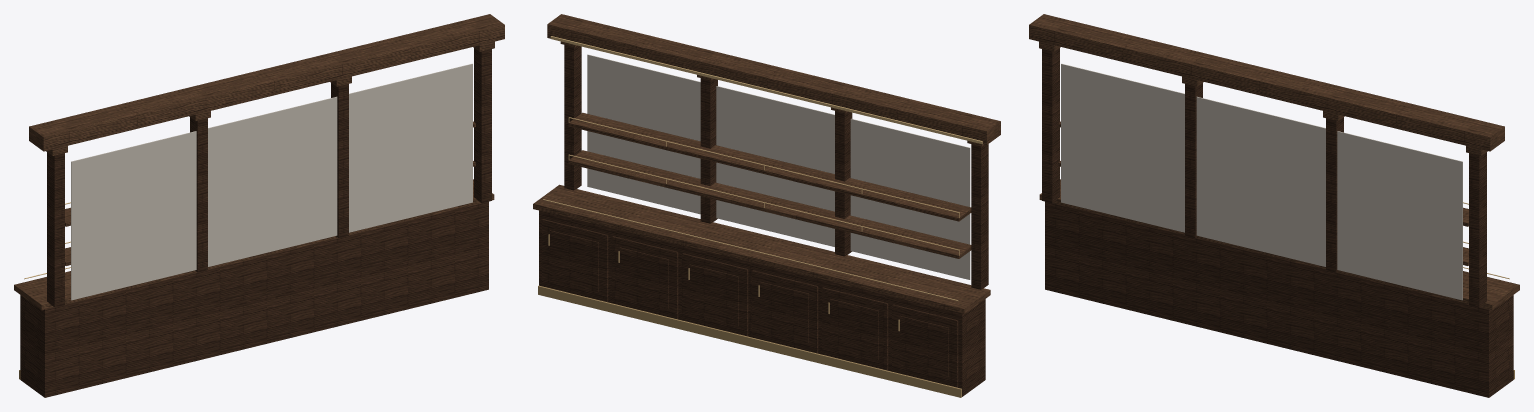
The model's file is estante.glb.
3 views of the same model, side by side, from view 1: azimuth 30°, elevation 25°; view 2: azimuth 150°, elevation 25°; view 3: azimuth 330°, elevation 25° (orthographic). The views are drawn at different scales.
Parts seen in each view (by area): view 1: armario, espelho.001, espelho, espelho.002, cornija, coluna, coluna.003, armario_tampo, coluna.001, coluna.002; view 2: armario_tampo, espelho, espelho.001, espelho.002, cornija, armario, prateleira, prateleira.001, armario_rodape, coluna, porta_almofada, porta_almofada.001 (+17 smaller); view 3: armario, espelho.001, espelho.002, espelho, cornija, coluna.003, coluna, armario_tampo, coluna.002, coluna.001.
Part boxes in pixels (bbox=[...]): armario: bbox=[20, 201, 488, 397]; espelho.001: bbox=[208, 96, 337, 266]; espelho: bbox=[71, 131, 196, 300]; espelho.002: bbox=[349, 63, 472, 232]; cornija: bbox=[29, 14, 504, 151]; coluna: bbox=[47, 152, 64, 307]; coluna.003: bbox=[474, 48, 491, 203]; armario_tampo: bbox=[14, 179, 494, 310]; coluna.001: bbox=[190, 117, 207, 272]; coluna.002: bbox=[331, 83, 348, 237]; armario_tampo: bbox=[533, 184, 990, 314]; espelho: bbox=[850, 118, 970, 279]; espelho.001: bbox=[716, 86, 834, 246]; espelho.002: bbox=[587, 54, 700, 214]; cornija: bbox=[547, 14, 1000, 144]; armario: bbox=[539, 210, 985, 396]; prateleira: bbox=[568, 150, 971, 258]; prateleira.001: bbox=[568, 112, 971, 221]; armario_rodape: bbox=[538, 285, 961, 397]; coluna: bbox=[971, 144, 988, 289]; porta_almofada: bbox=[899, 315, 948, 377]; porta_almofada.001: bbox=[829, 298, 878, 360]; armario: bbox=[1045, 201, 1513, 397]; espelho.001: bbox=[1196, 96, 1325, 266]; espelho.002: bbox=[1337, 131, 1462, 300]; espelho: bbox=[1061, 63, 1184, 232]; cornija: bbox=[1029, 14, 1504, 151]; coluna.003: bbox=[1469, 152, 1486, 307]; coluna: bbox=[1042, 48, 1059, 203]; armario_tampo: bbox=[1039, 179, 1519, 310]; coluna.002: bbox=[1326, 117, 1343, 272]; coluna.001: bbox=[1185, 83, 1202, 237].
Size of the model in its own units: 5.4 by 3 by 0.702.
5 materials, 2 textured.
